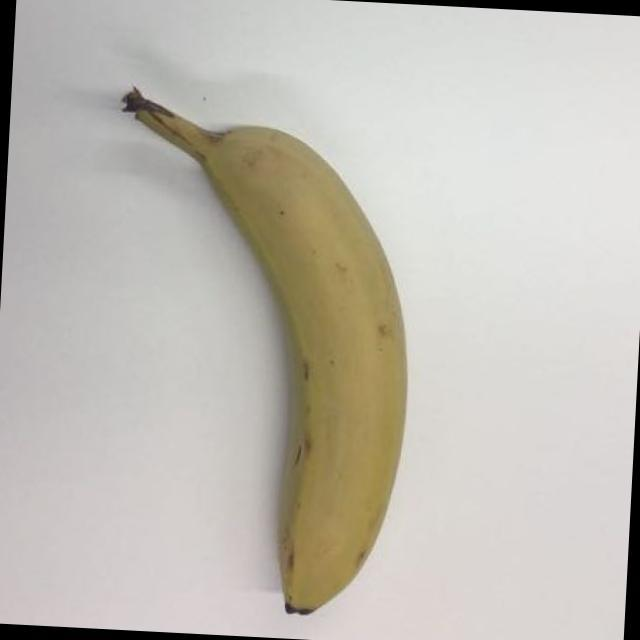Banana: (92, 71, 430, 636)
